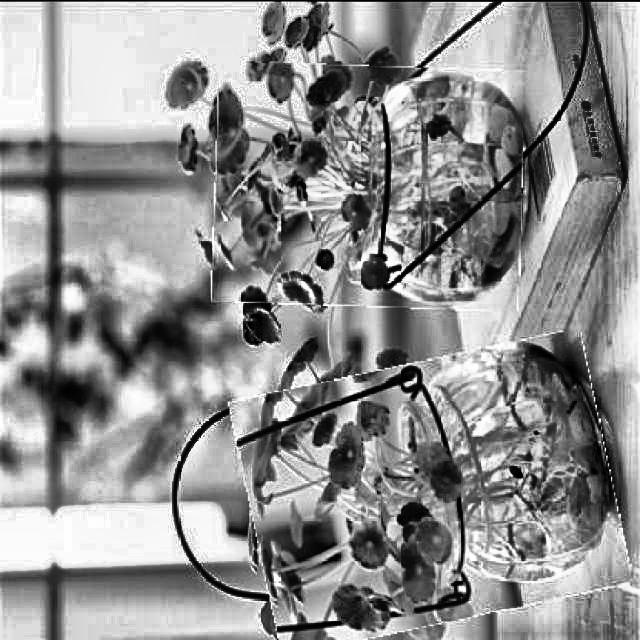plants: (239, 344, 621, 638), (213, 62, 524, 307)
